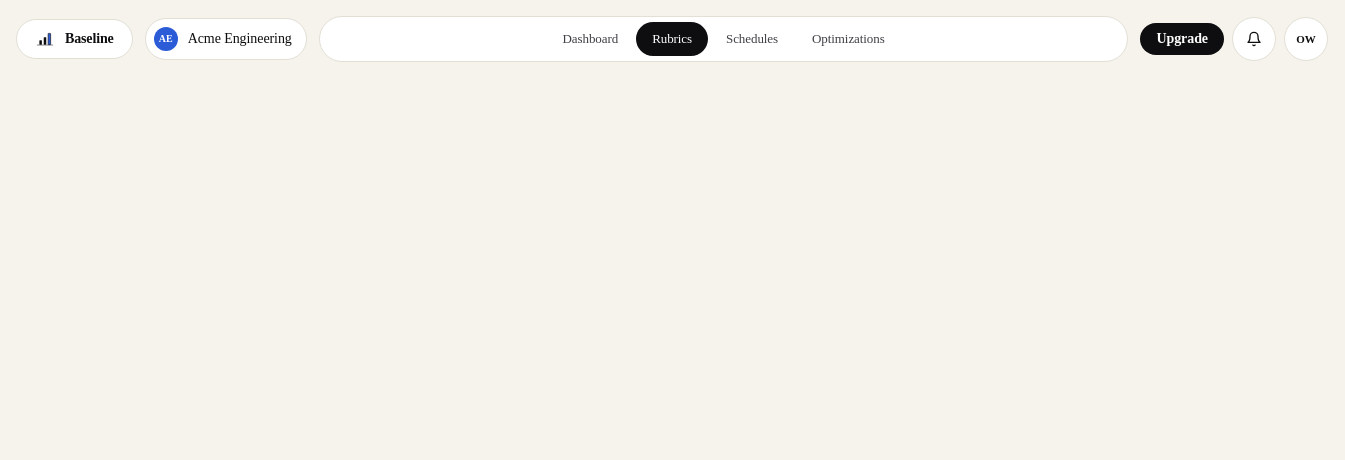
NavBar (context-sourced) › renders the active org + email from the AuthProvider seed
The image size is (1345, 460).
Expected: the text "Acme Engineering" is shown, [188,29,292,49]
Note: Email is surfaced via the account menu.
What coordinates should you click on to do the following:
click the button with aria-label "Account"
I would click on:
 (1306, 39)
Its box is [1284,17,1328,61].
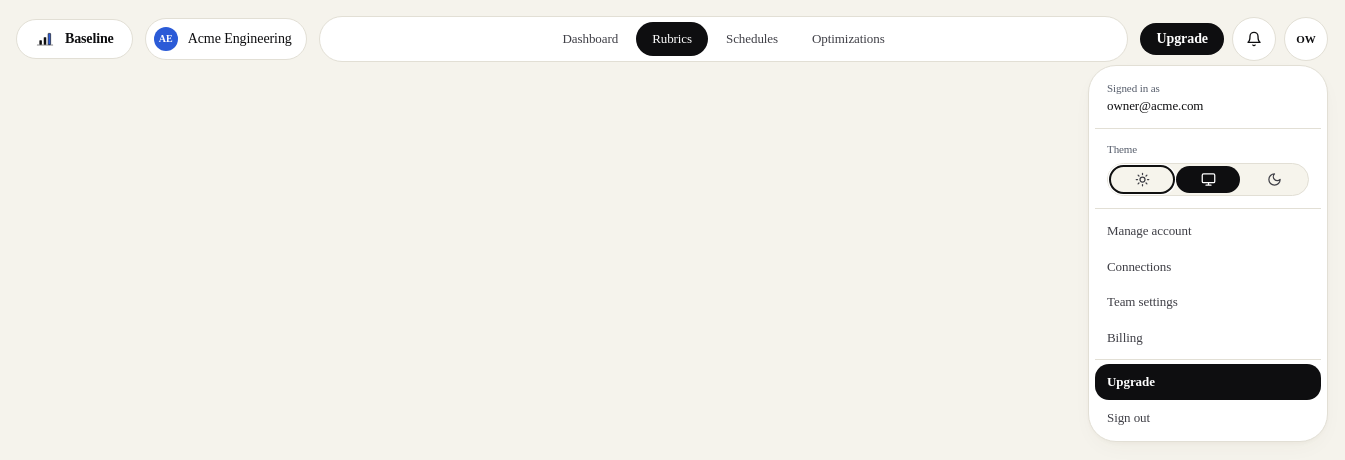
Expected: the text "owner@acme.com" is shown, [1107,98,1203,113]
Expected: the link "Team settings" is shown, [1107,294,1178,309]
